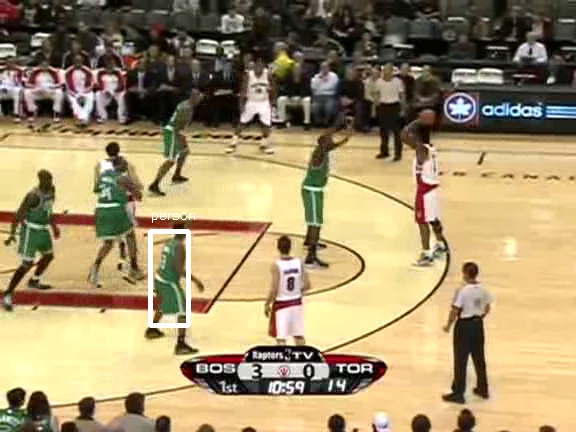person: (154, 237, 188, 318), (153, 237, 187, 318), (155, 237, 189, 318), (154, 236, 188, 317), (154, 238, 188, 319)
target_negative: (91, 296, 426, 381), (343, 348, 466, 402), (376, 355, 479, 405), (534, 24, 542, 387), (374, 38, 461, 54), (560, 272, 568, 277)
